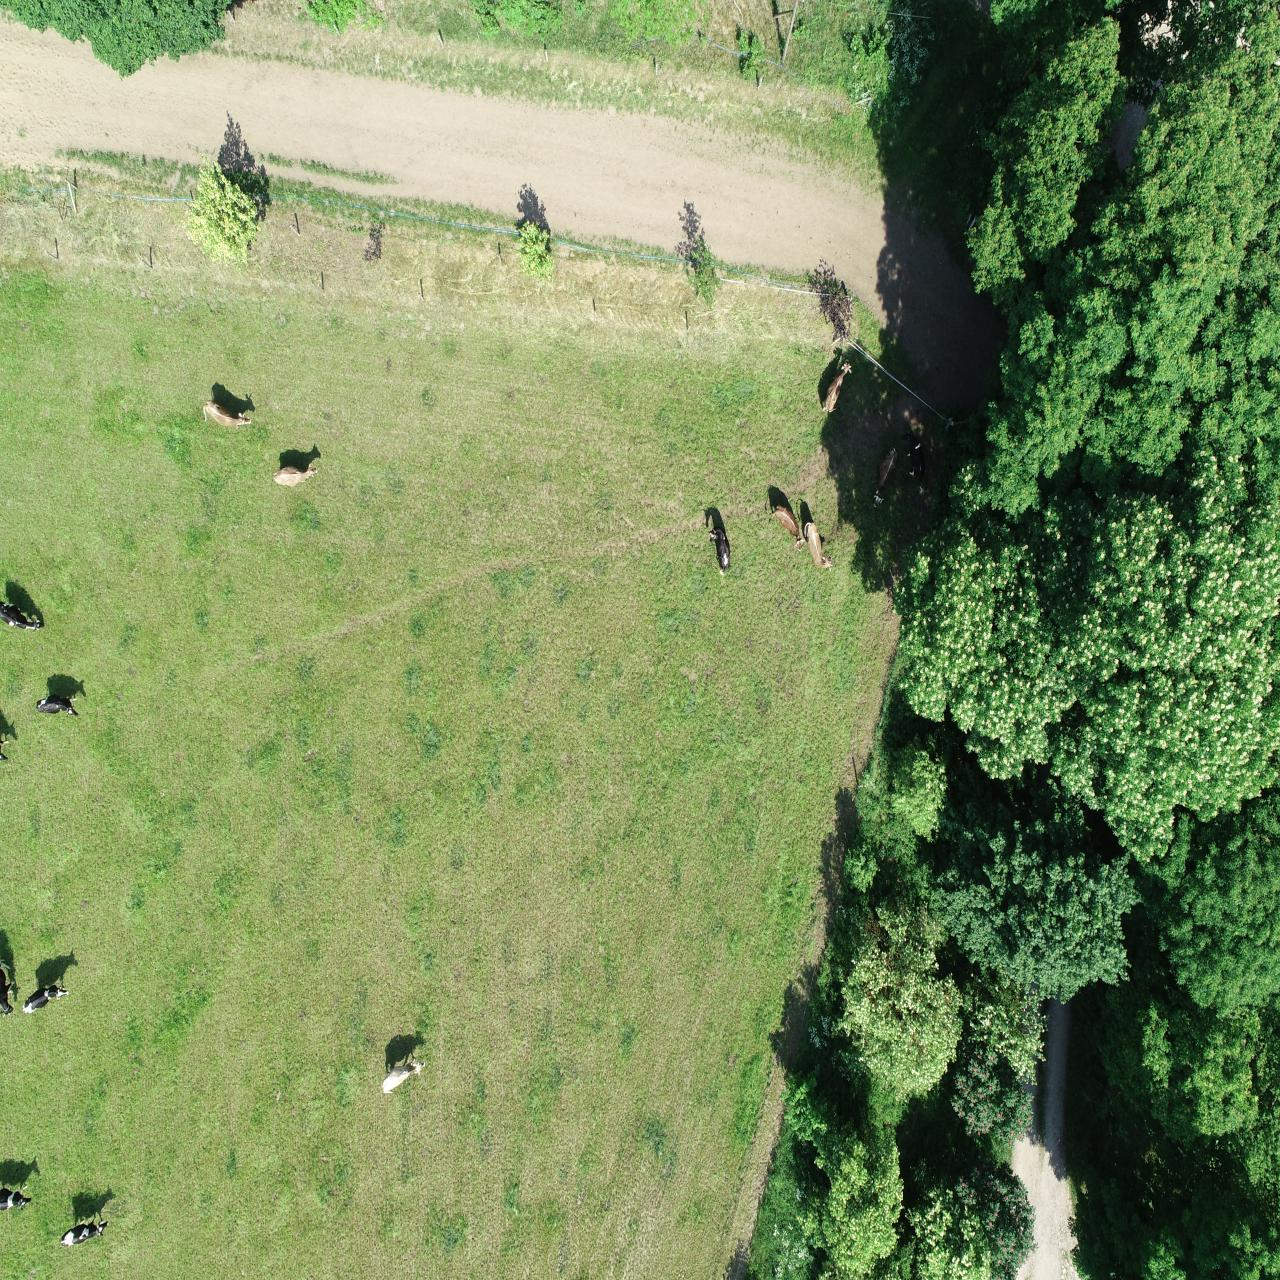cow: (767, 499, 805, 559), (871, 443, 899, 512), (380, 1055, 427, 1096), (821, 356, 853, 415), (803, 520, 837, 573), (202, 397, 252, 431), (21, 981, 69, 1016), (707, 523, 733, 577), (272, 459, 318, 489), (34, 693, 81, 721)
